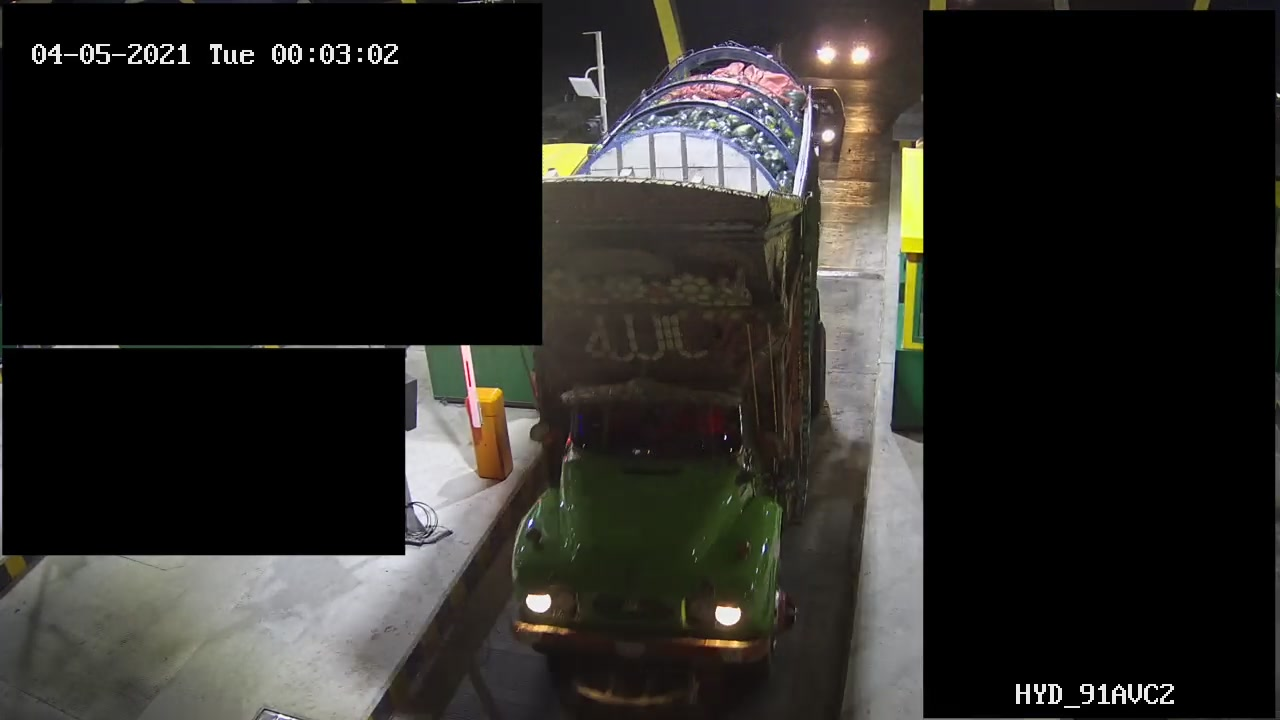F5: (506, 37, 818, 692)
